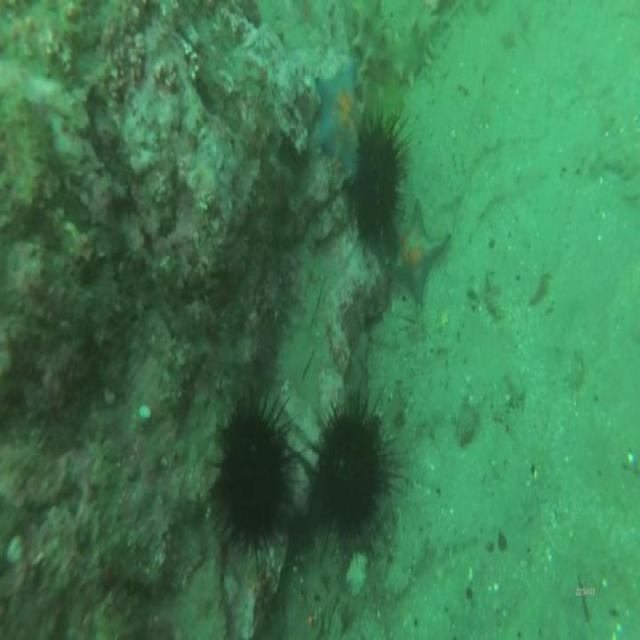echinus: (217, 409, 288, 536), (318, 404, 382, 540), (359, 127, 401, 236)
holothurian: (348, 5, 431, 82)
starfish: (396, 209, 450, 294), (317, 66, 359, 174)
